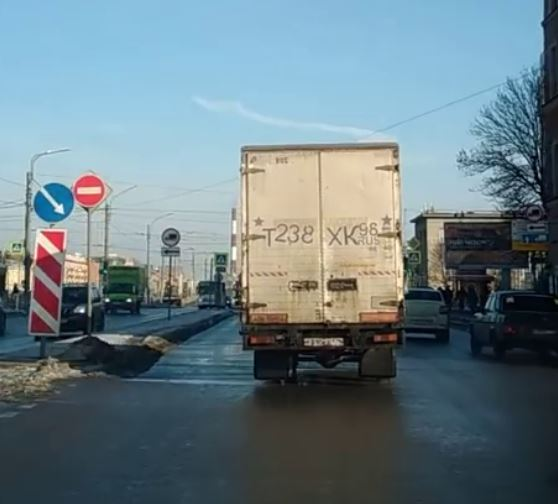Sagdan Git: (31, 181, 72, 225)
